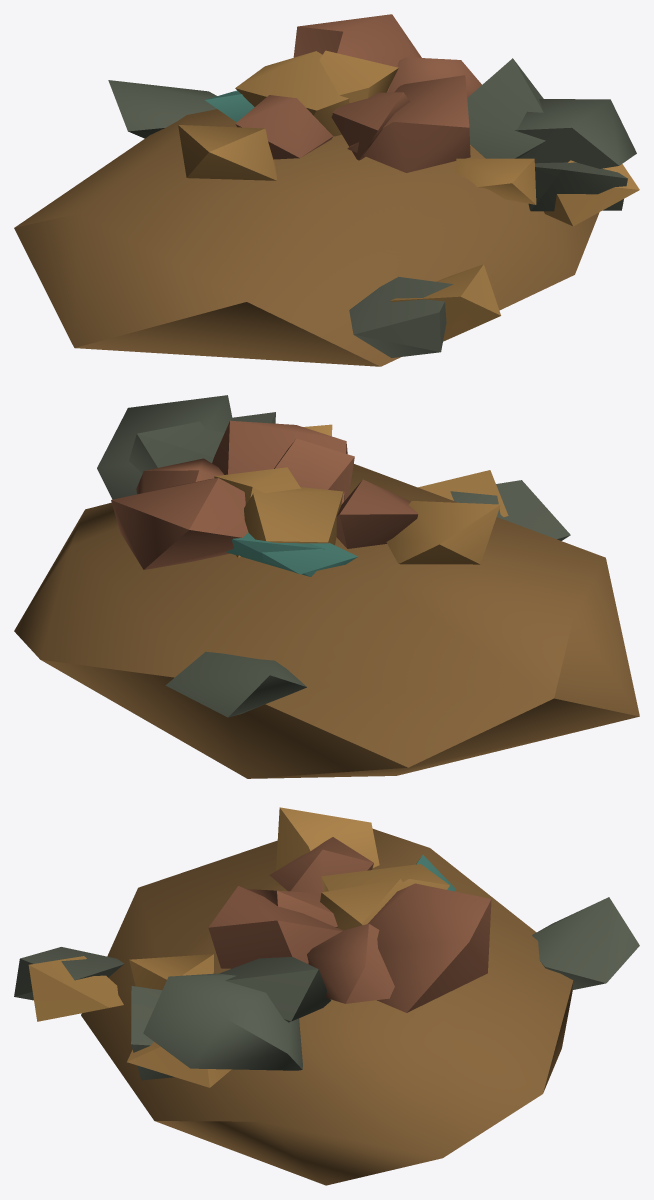
The model's file is ore_heap_a_lod2.glb.
The picture shows the model from 3 angles, top to bottom: view 1: azimuth 30°, elevation 25°; view 2: azimuth 150°, elevation 25°; view 3: azimuth 270°, elevation 25°; orthographic projection. The views are drawn at different scales.
Visible parts, largest first — view 1: Surface.001; view 2: Surface.001; view 3: Surface.001.
Part boxes in pixels (<box>): Surface.001: <box>14,14,639,366</box>; Surface.001: <box>14,395,639,778</box>; Surface.001: <box>14,807,639,1185</box>.
Size of the model in its own units: 2.85 by 1.31 by 2.8.
